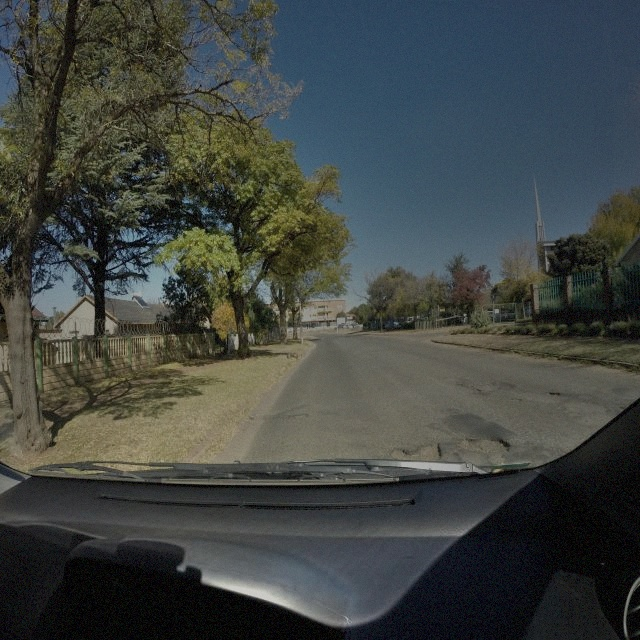pothole: (390, 439, 443, 463), (458, 434, 512, 454), (291, 414, 309, 421), (547, 390, 560, 397), (511, 396, 522, 404), (473, 388, 481, 395)
